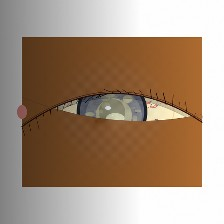corneal_ulcer: (84, 92, 143, 139)
